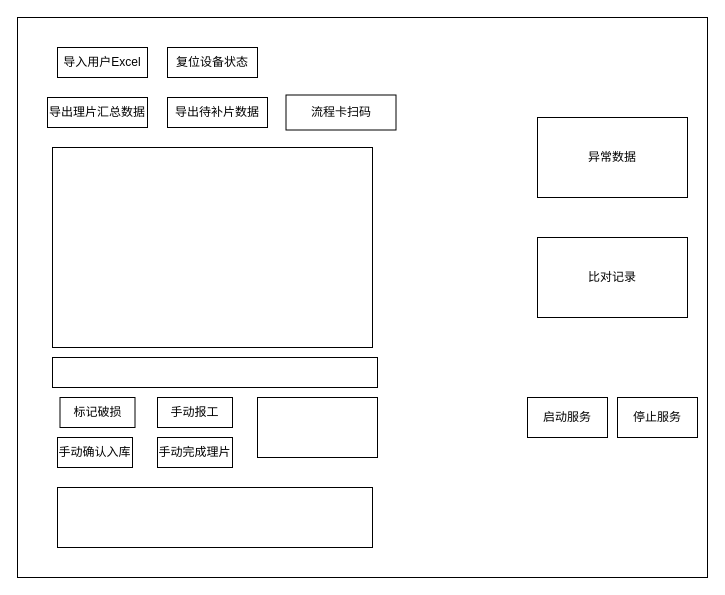
Some shapes in this 725 by 595 pixel diagram are drawn without their labels. Each missing label, with the centre of its shape:
列表: point 212,247
参数设置: point 317,427
日志: point 214,517
详细信息: point 215,372
